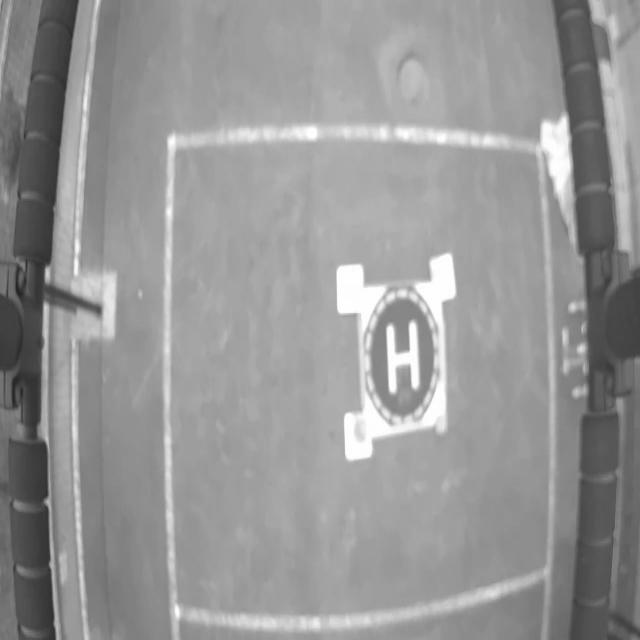Helipad: (385, 321, 421, 394)
